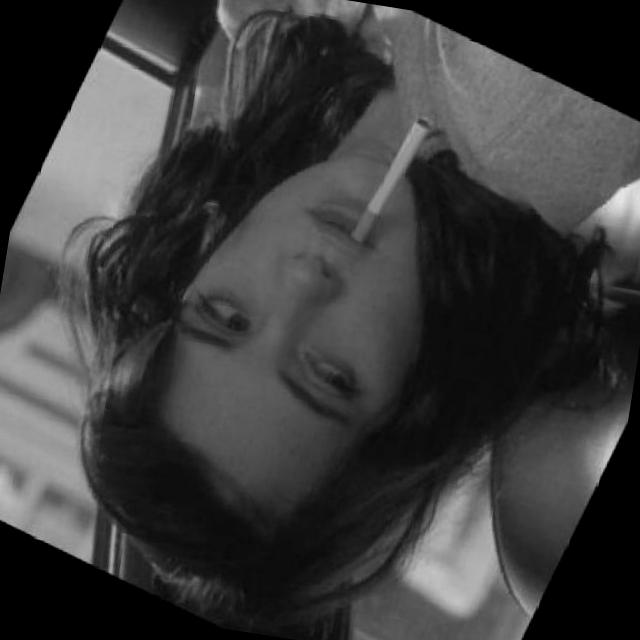cigarette: (341, 100, 436, 258)
